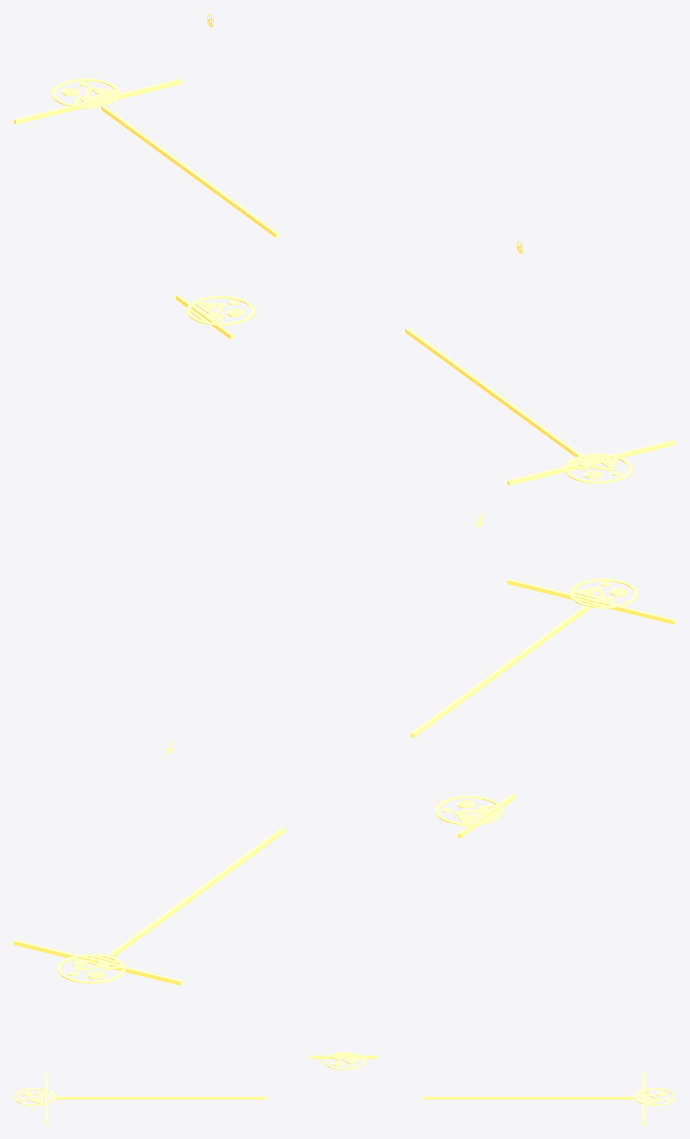
Rendered from GroundLights_Mid.glb.
3 renders of one model, top to bottom at view 1: azimuth 30°, elevation 25°; view 2: azimuth 150°, elevation 25°; view 3: azimuth 270°, elevation 25°, orthographic. The views are drawn at different scales.
Parts seen in each view (by area): view 1: Cube, DCL Logo, DCL logo.001; view 2: Cube, DCL Logo, DCL logo.001; view 3: Cube, DCL Logo, DCL logo.001.
Part boxes in pixels (x1,y1,x2,y2): Cube: (14,78,675,485); DCL Logo: (51,78,632,483); DCL logo.001: (186,295,255,325); Cube: (14,578,675,985); DCL Logo: (57,578,638,983); DCL logo.001: (435,795,503,825); Cube: (45,1073,644,1124); DCL Logo: (14,1088,675,1105); DCL logo.001: (324,1052,365,1069).
Size of the model in its own units: 9.05 by 5.51 by 36.13.
